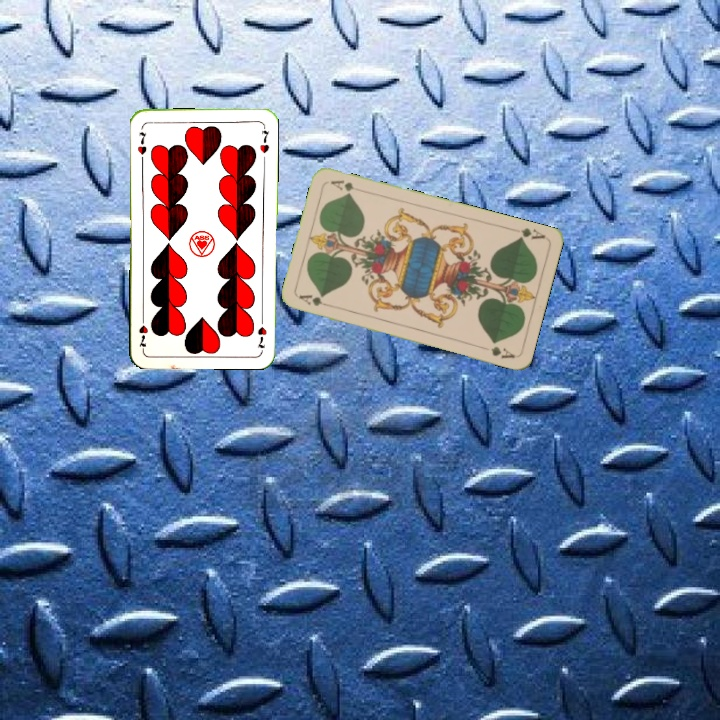GA: (295, 291, 335, 310), (514, 224, 548, 243)
H7: (253, 312, 269, 353), (134, 128, 149, 157)
